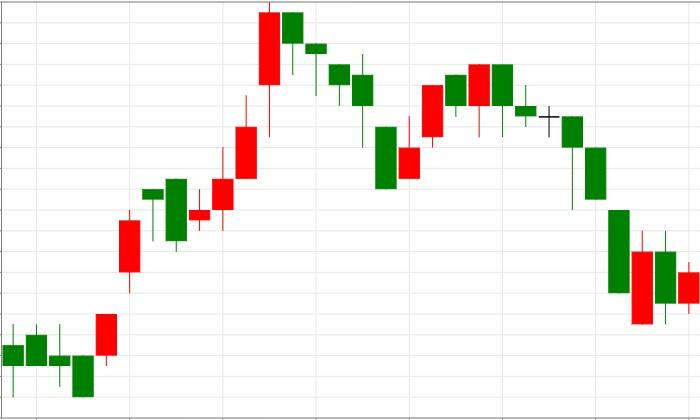bearish_engulfing_fall: (375, 64, 514, 189)
three_black_crows_fall: (72, 2, 351, 397)
